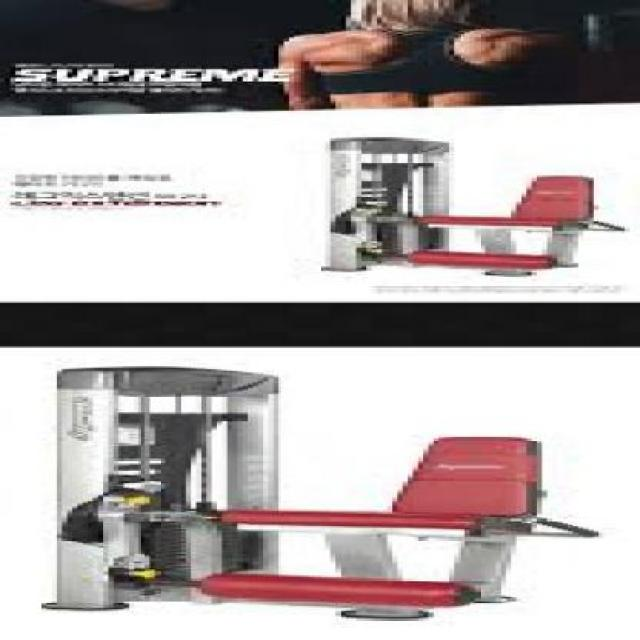leg extension: (12, 364, 639, 640), (234, 120, 640, 297)
